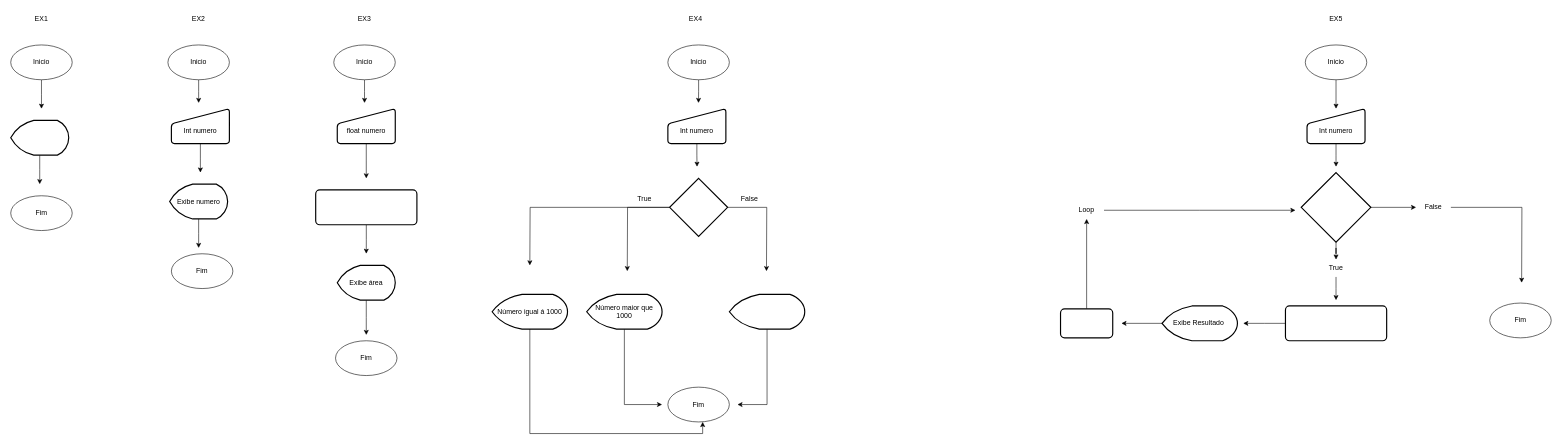
The diagram is 1561 pixels wide and 448 high, and some of its shapes have lost their labels. The shapes that lost their labels are listed below. From the top down, each one's centre as x and y in pixels, then its label:
the point at 39,137: Exibe 5
the point at 366,207: areaQuadrado = ladoQuadrado * ladoQuadrado
the point at 698,207: Num => 1000
the point at 1335,207: Index = 1 Index <=10
the point at 766,311: Número menor que 1000
the point at 1086,323: Index ++
the point at 1336,323: numero * index
